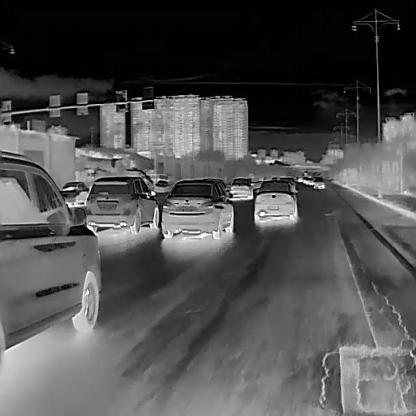car: (0, 149, 101, 368), (161, 176, 233, 239), (84, 175, 159, 232), (254, 179, 297, 224), (59, 181, 89, 206), (229, 176, 251, 199), (313, 177, 324, 189)
